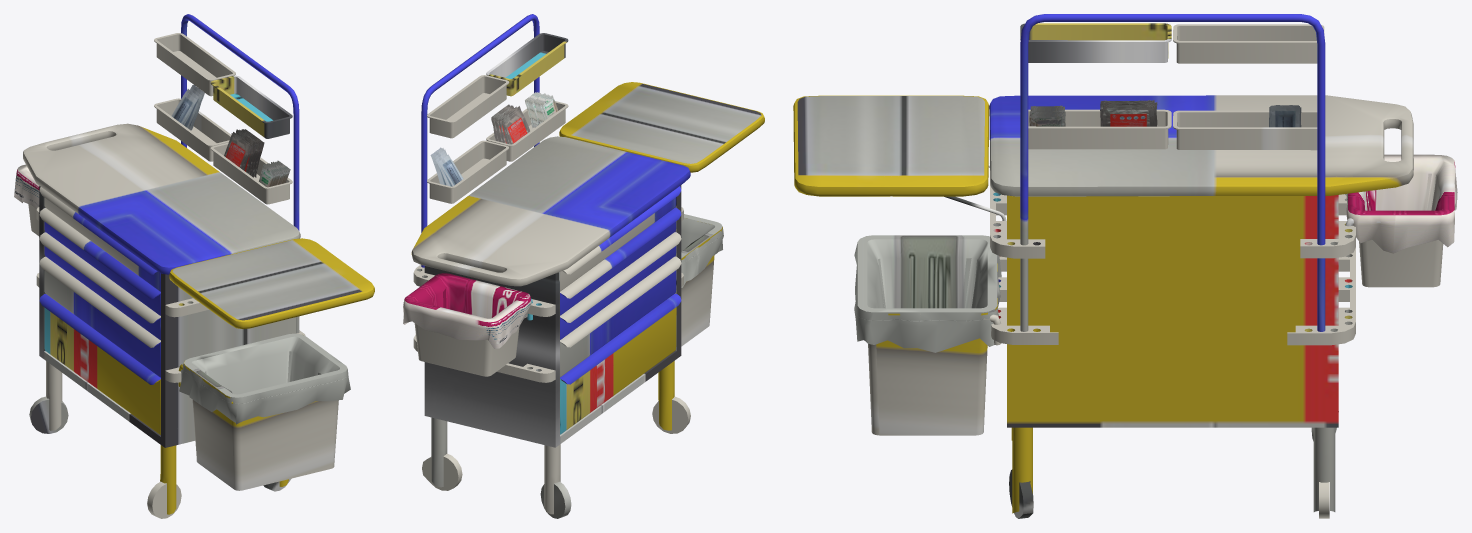
The model's file is Chariot_01.FBX.
3 renders of one model, left to right at view 1: azimuth 30°, elevation 25°; view 2: azimuth 150°, elevation 25°; view 3: azimuth 270°, elevation 25°, orthographic. The views are drawn at different scales.
Parts seen in each view (by area): view 1: id1, id3, object 1; view 2: id1, id3, object 1; view 3: id1, id3, object 1.
Part boxes in pixels (x1=…): id1: x1=23, y1=14, x2=374, y2=518; id3: x1=14, y1=164, x2=350, y2=424; object 1: x1=171, y1=85, x2=290, y2=187; id1: x1=411, y1=14, x2=764, y2=518; id3: x1=403, y1=214, x2=723, y2=348; object 1: x1=430, y1=92, x2=558, y2=186; id1: x1=793, y1=14, x2=1443, y2=518; id3: x1=854, y1=154, x2=1457, y2=352; object 1: x1=1029, y1=100, x2=1301, y2=127.
Bounding box in the file's own units: 56.85 × 137 × 160.
